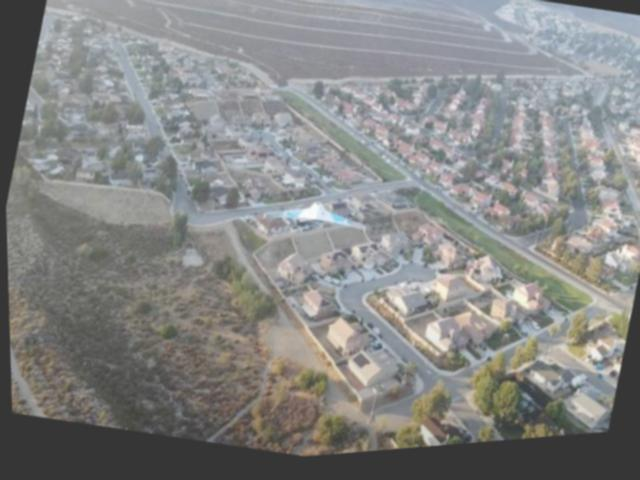iha: (259, 190, 369, 253)
